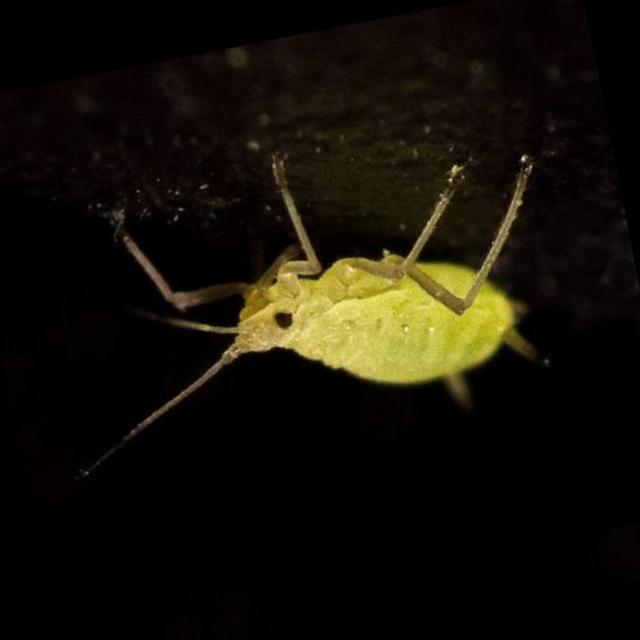Aphids: (94, 126, 570, 476)
